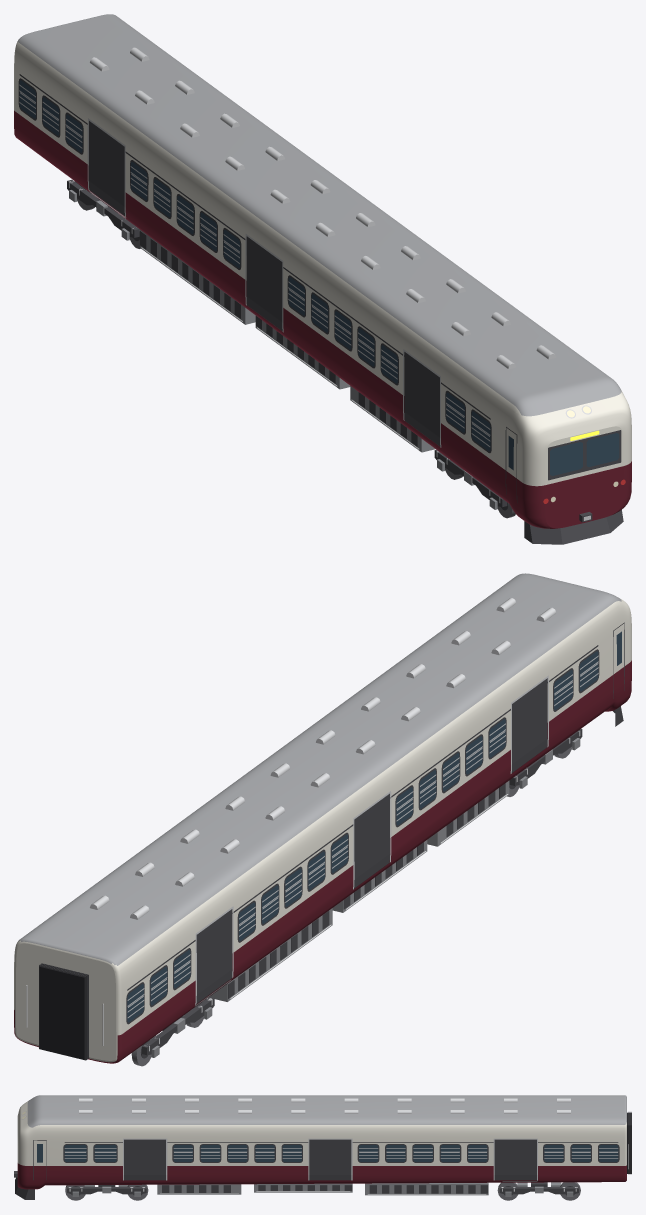
File: 4_close.fbx
3 views of the same model, one above another, from view 1: azimuth 30°, elevation 25°; view 2: azimuth 150°, elevation 25°; view 3: azimuth 270°, elevation 25° (orthographic). The views are drawn at different scales.
Visible parts, largest first — view 1: 21_4_close; view 2: 21_4_close; view 3: 21_4_close.
Boxes of the visible parts, x1,y1,x2,y2 form: 21_4_close: (14, 14, 631, 544); 21_4_close: (14, 573, 631, 1066); 21_4_close: (14, 1095, 631, 1200).
Bounding box in the file's own units: 2.98 × 3.91 × 25.
